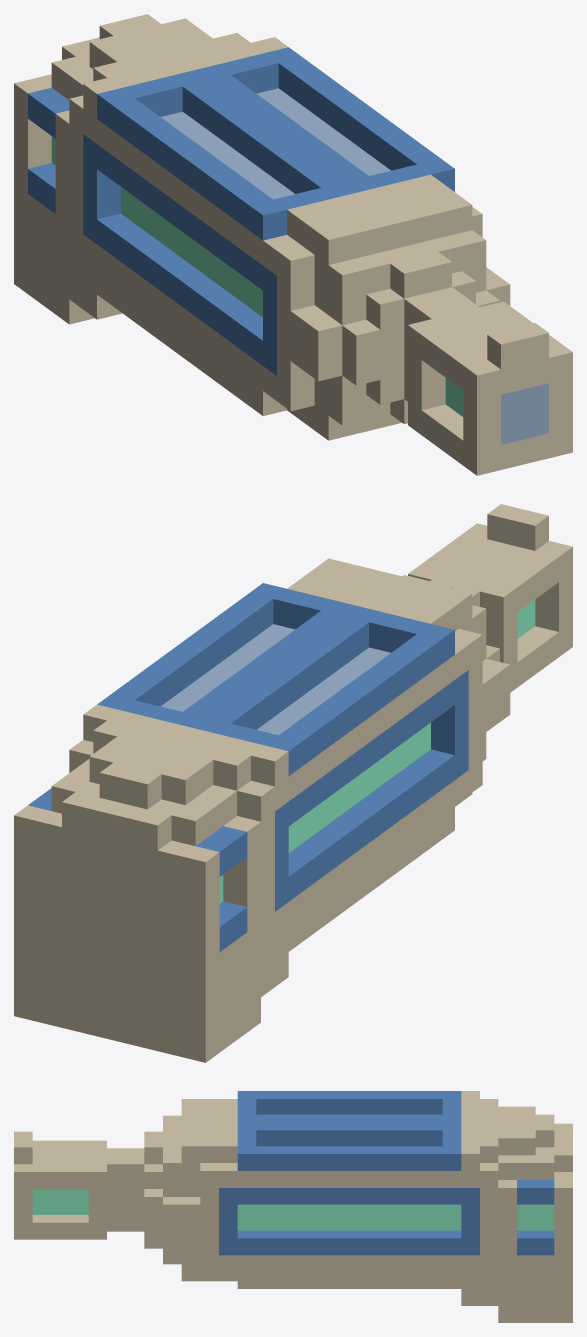
File: gun.obj
3 renders of one model, top to bottom at view 1: azimuth 30°, elevation 25°; view 2: azimuth 150°, elevation 25°; view 3: azimuth 270°, elevation 25°, orthographic. The views are drawn at different scales.
Bounding box in the file's own units: 8 × 10 × 30.
1 material, 1 textured.
